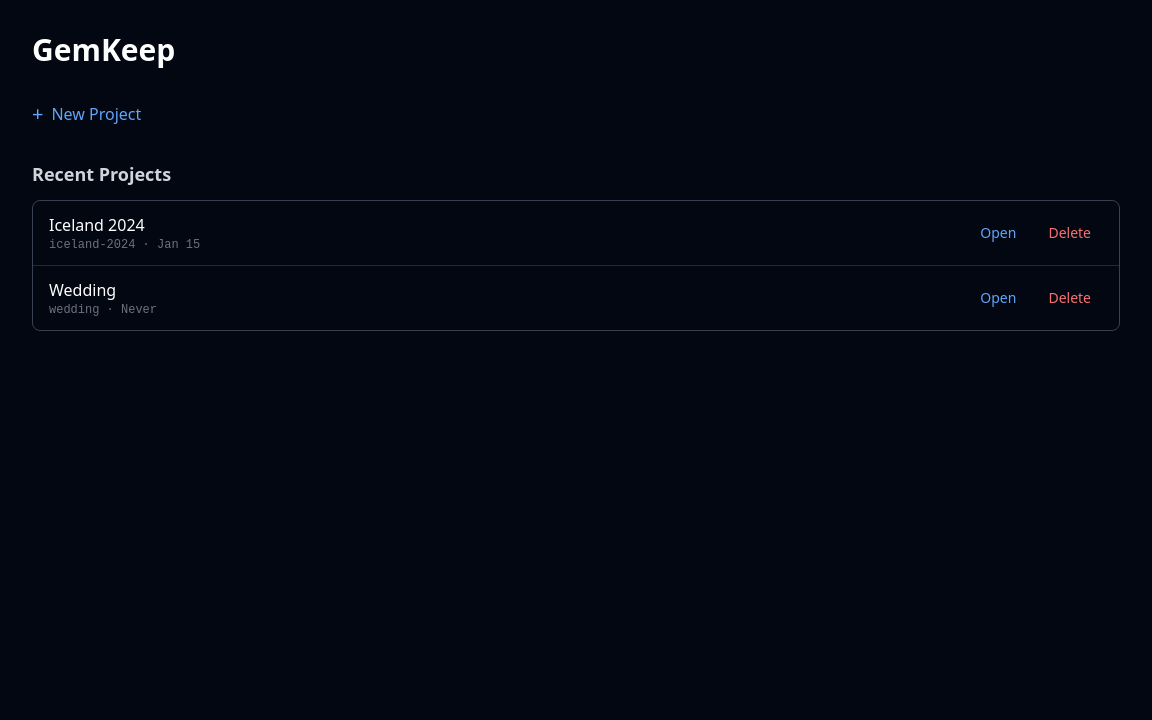
Test: ProjectList — create form submission (PL-14, PL-16) › shows error on create failure (PL-16)
This screenshot has width=1152, height=720.
Expected: the heading "GemKeep" is shown, [32,29,175,70]
Click the button "+ New Project" at (87, 114), box [32,100,141,128]
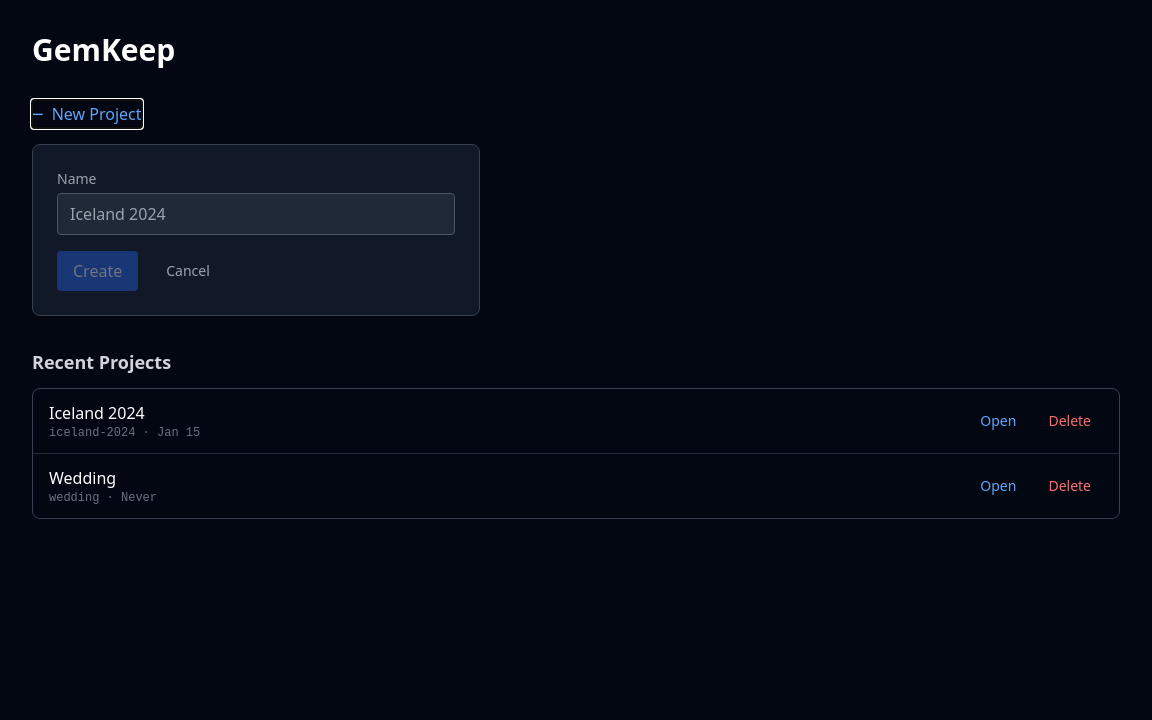
Type "Fail Project" into the field with placeholder "Iceland 2024" at (256, 214), box [57,193,455,235]
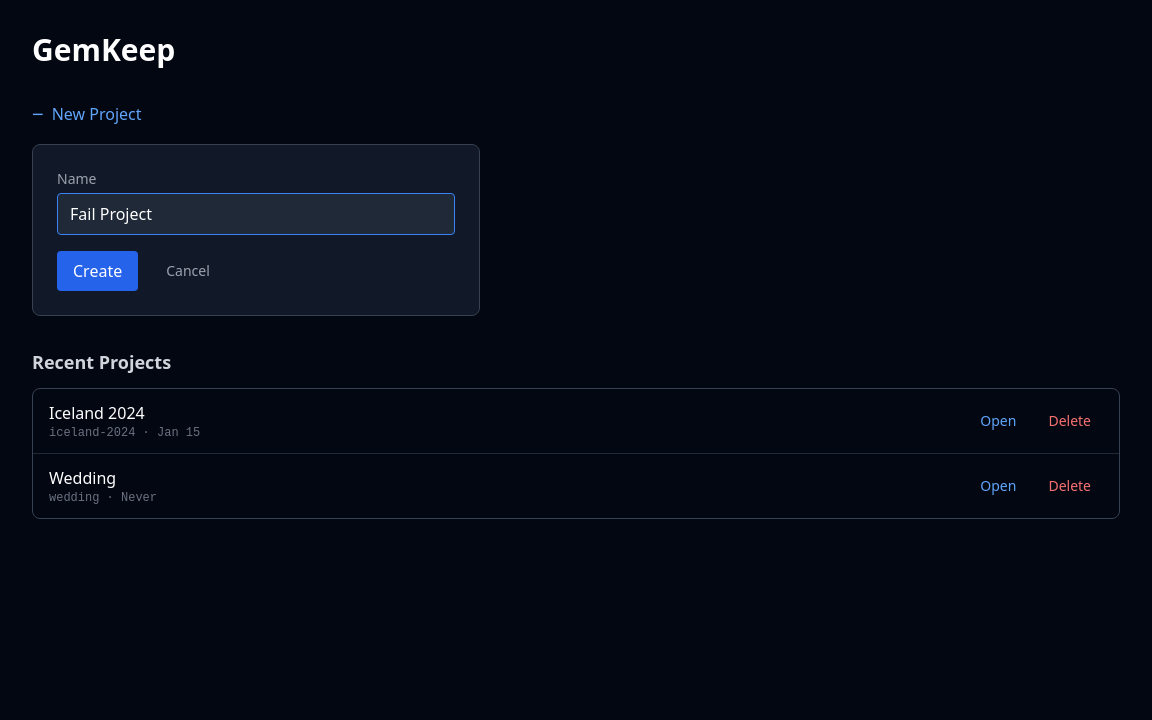
Click the button "Create" at (98, 271), box [57,251,138,291]
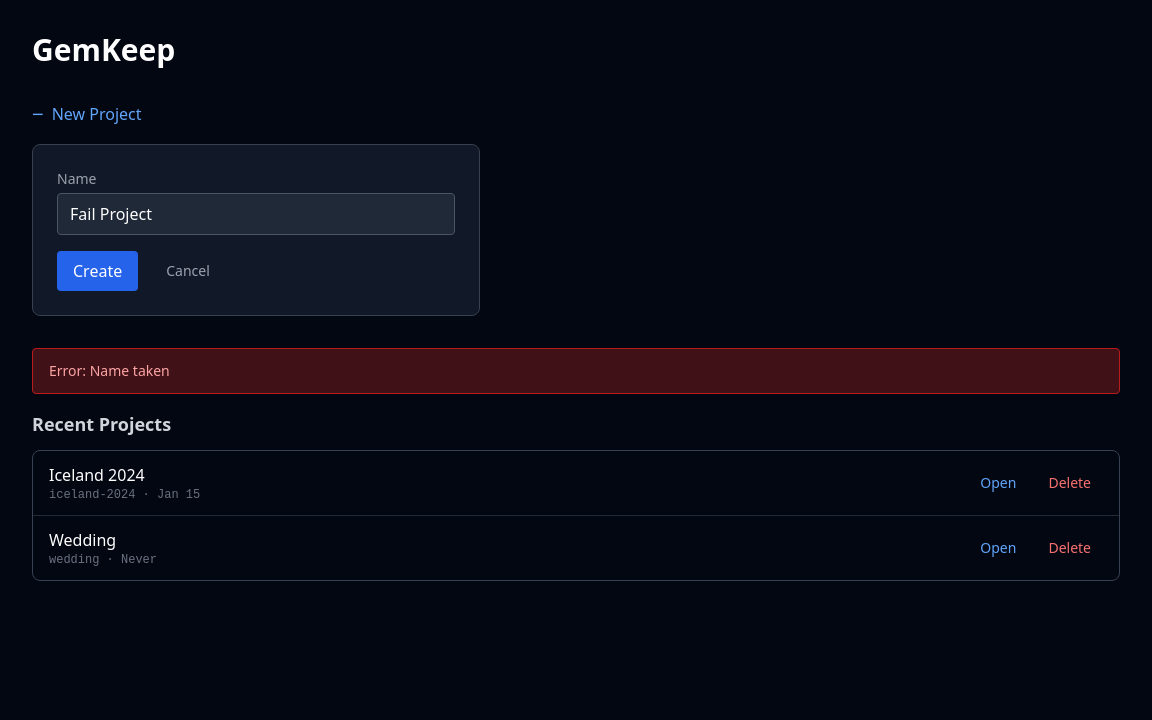
Expected: the text "Error: Name taken" is shown, [32,348,1120,394]
